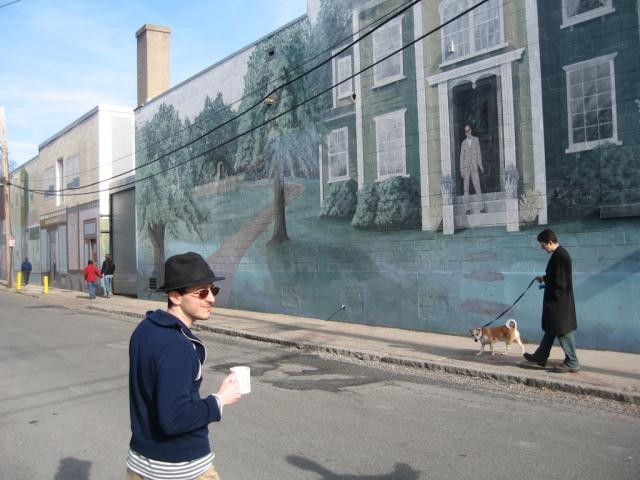Dog: (471, 320, 526, 355)
